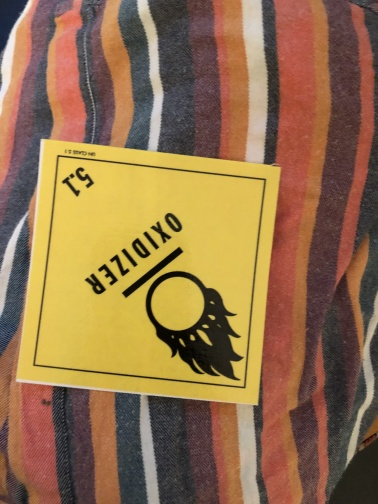Oxidizer: (17, 140, 281, 403)
